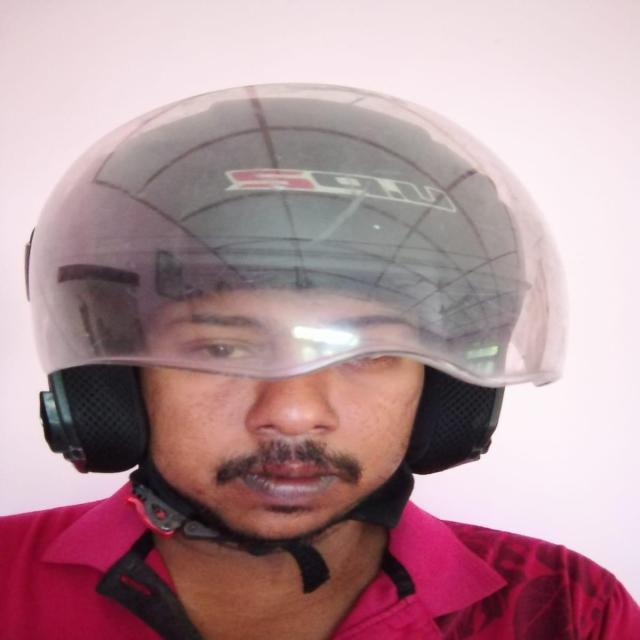helmet: (22, 84, 572, 526)
